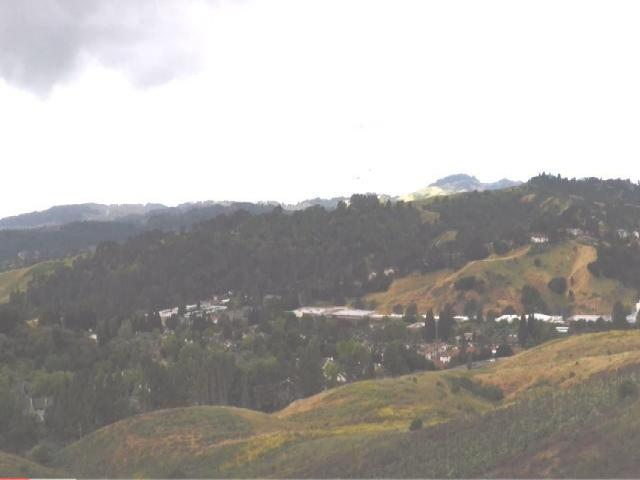iha: (354, 166, 374, 189)
